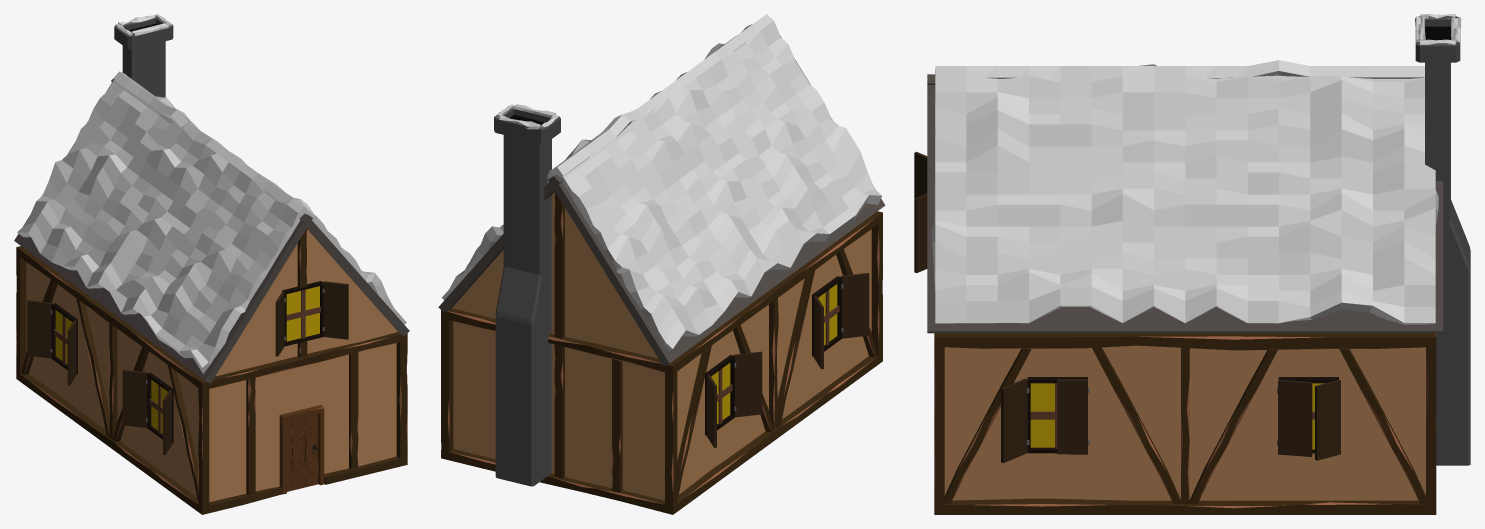
File: House_01_Merged.fbx
3 renders of one model, left to right at view 1: azimuth 30°, elevation 25°; view 2: azimuth 150°, elevation 25°; view 3: azimuth 270°, elevation 25°, orthographic. The views are drawn at different scales.
Parts seen in each view (by area): view 1: House_01_Merged; view 2: House_01_Merged; view 3: House_01_Merged.
Part boxes in pixels (<box>): House_01_Merged: <box>14,14,409,514</box>; House_01_Merged: <box>438,14,885,514</box>; House_01_Merged: <box>914,14,1470,514</box>.
Bounding box in the file's own units: 308 × 411 × 474.
